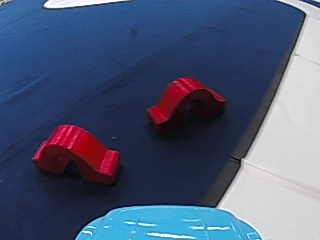bridge: (144, 74, 225, 137), (30, 121, 115, 181)
